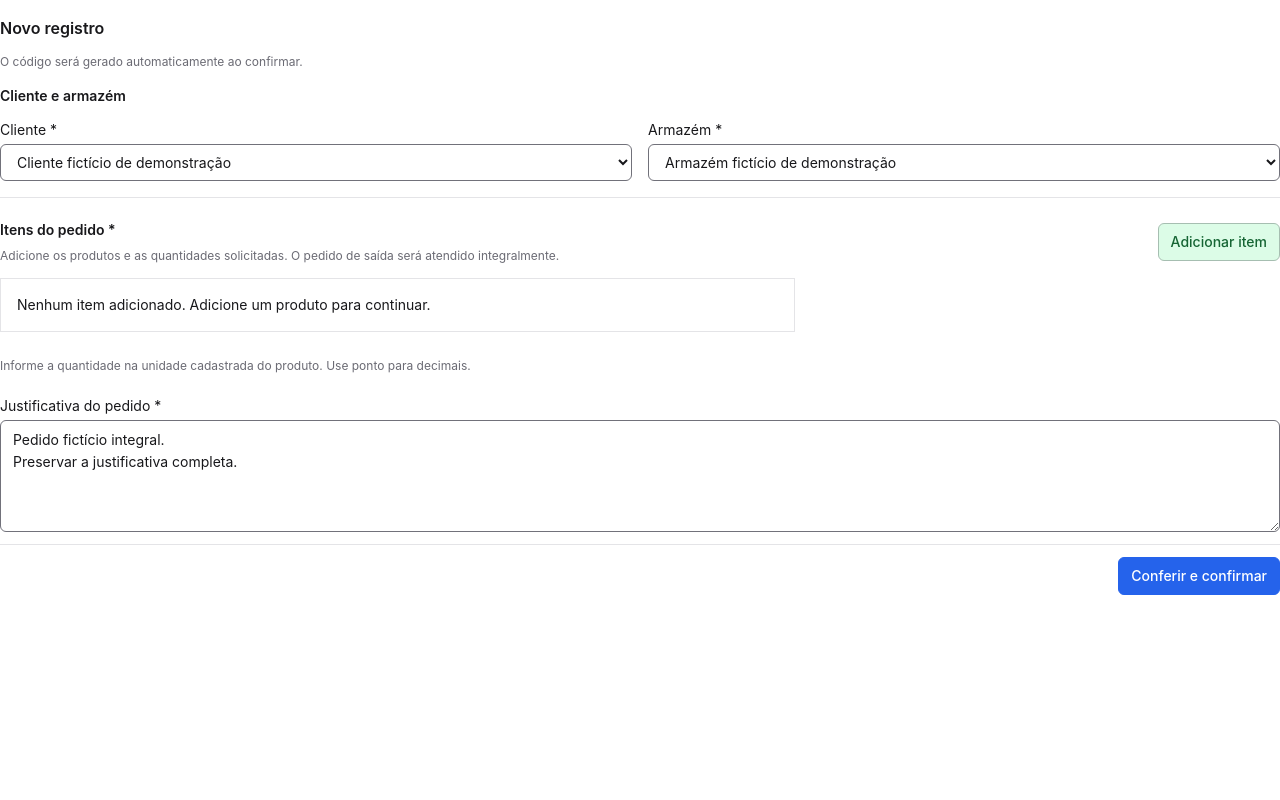
Scenario: exige ao menos um item e preserva o formulário após recusa do servidor
This screenshot has width=1280, height=800.
Click the button "Conferir e confirmar" at (1199, 576), box [1118, 557, 1279, 595]
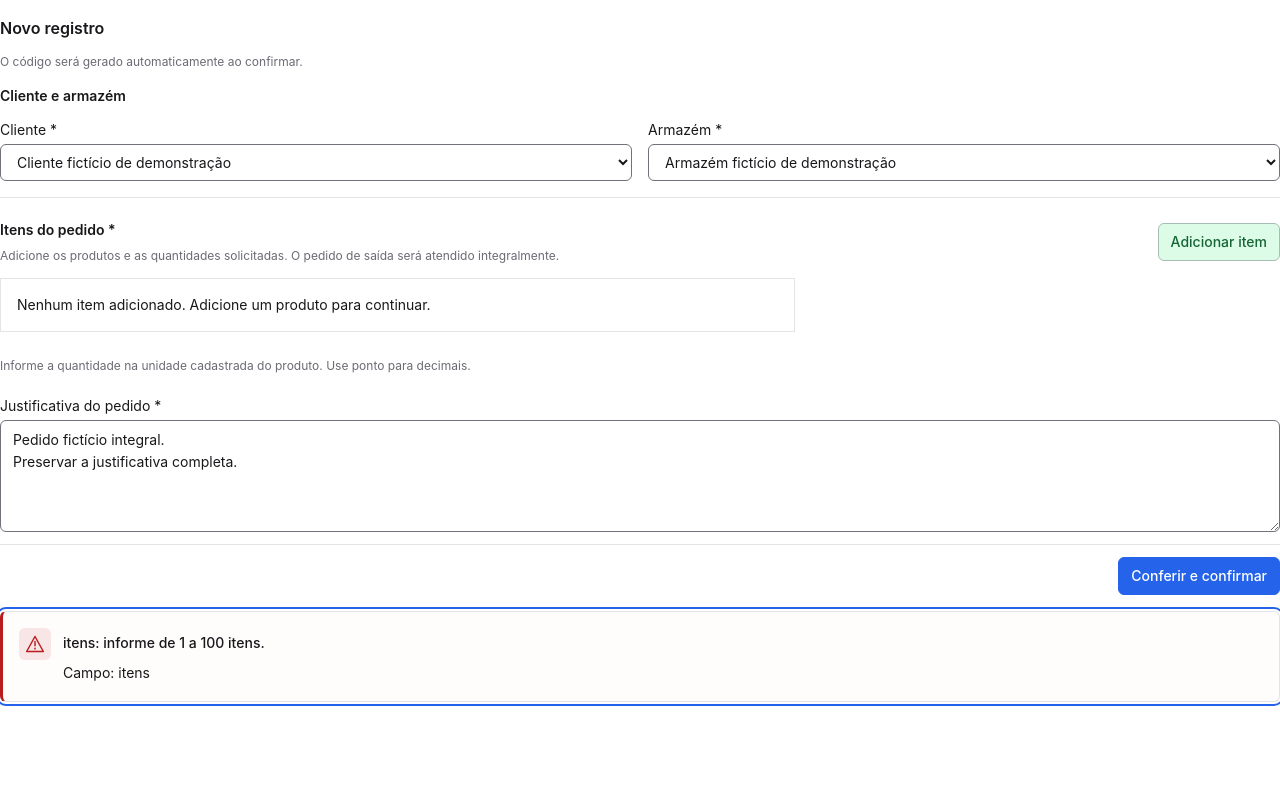
Expected: the button "Confirmar agora" is not shown
Click the button "Adicionar item" at (1219, 242), box [1158, 223, 1279, 261]
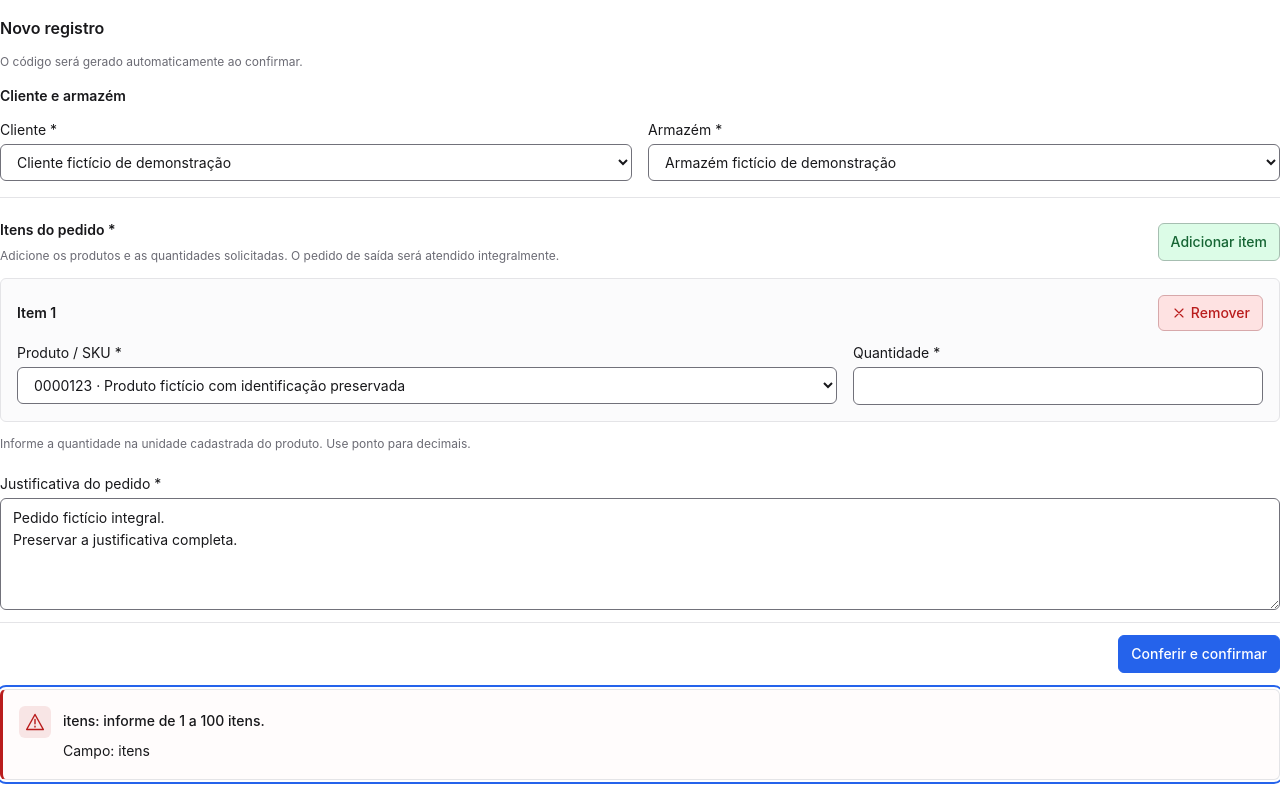
Type "3.250000" into the field labelled "Quantidade *" at (1058, 386), box [853, 367, 1263, 405]
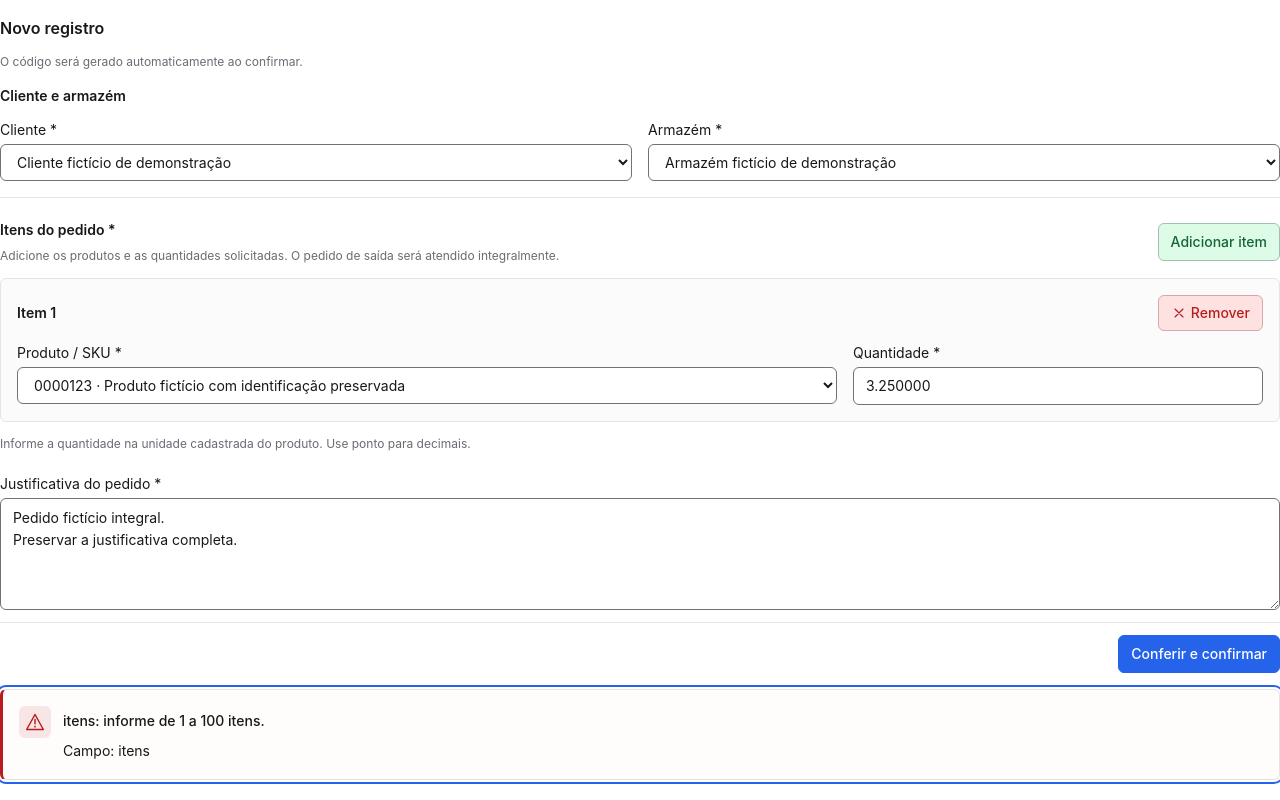
Click the button "Conferir e confirmar" at (1199, 654), box [1118, 635, 1279, 673]
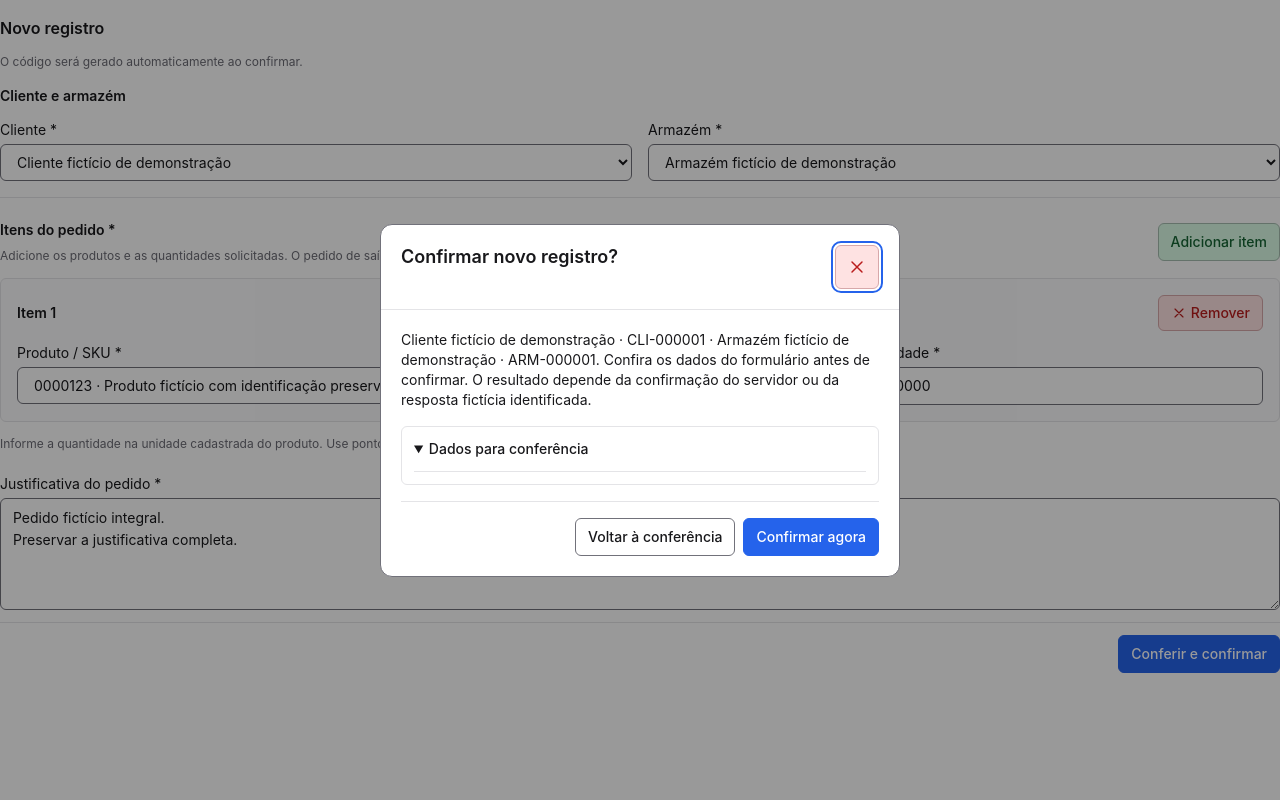
Click the button "Confirmar agora" at (811, 536), box [744, 518, 879, 556]
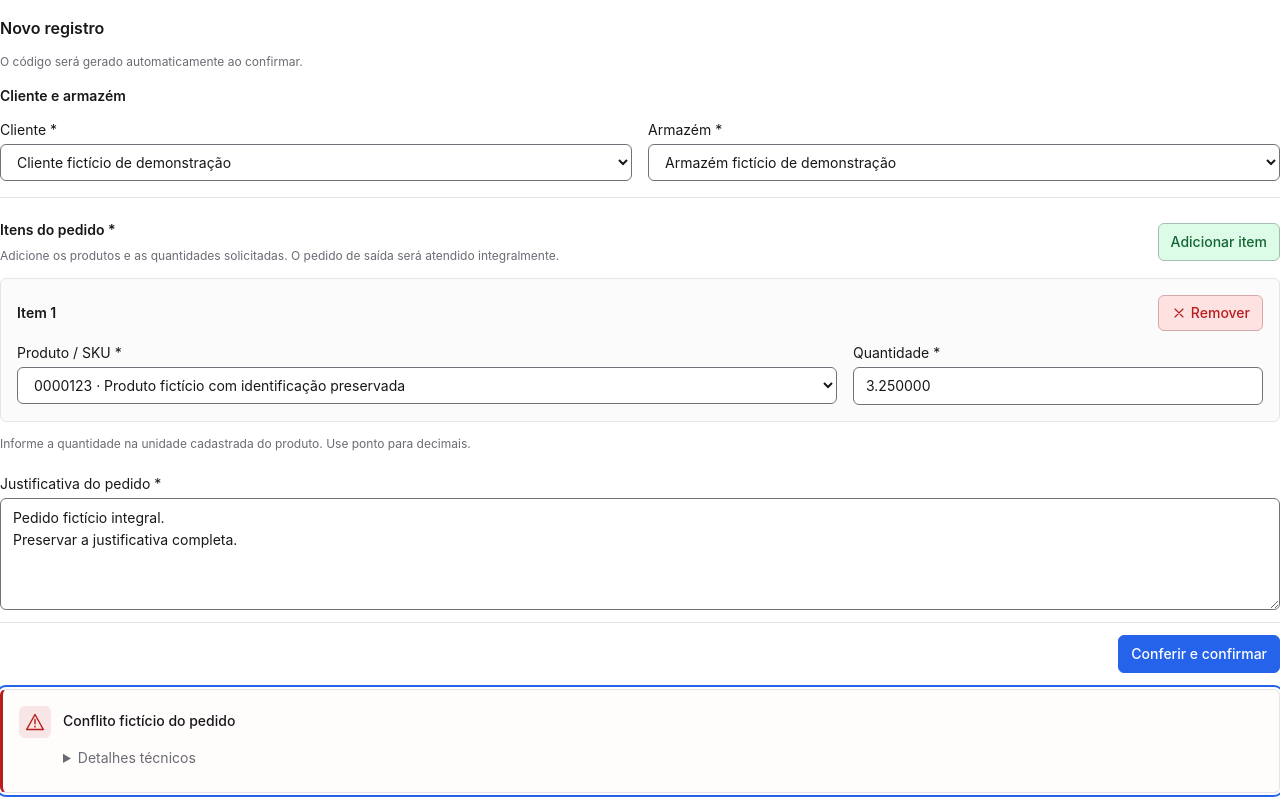
Expected: the button "Adicionar item" is enabled, [1158, 223, 1279, 261]
Now the text "Conflito fictício do pedido" is shown, box [63, 712, 235, 729]
